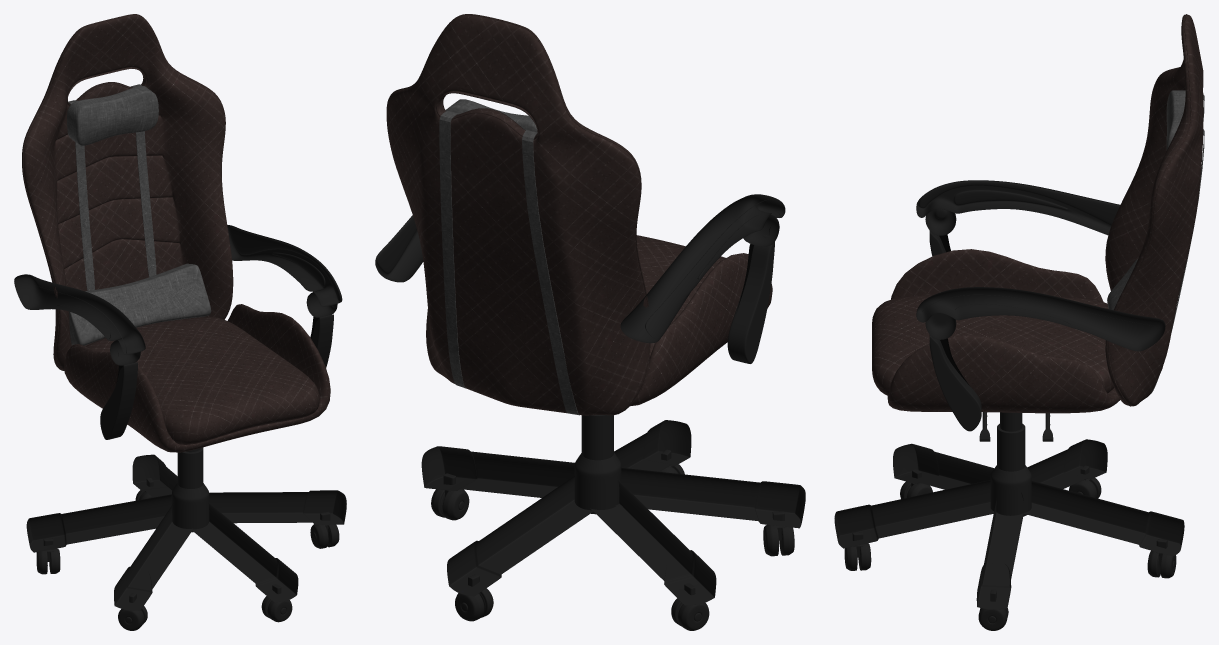
The model's file is Gaming_Chair.glb.
The picture shows the model from 3 angles, left to right: view 1: azimuth 30°, elevation 25°; view 2: azimuth 150°, elevation 25°; view 3: azimuth 270°, elevation 25°; orthographic projection. The views are drawn at different scales.
Parts seen in each view (by area): view 1: Gaming_Chair_Baked; view 2: Gaming_Chair_Baked; view 3: Gaming_Chair_Baked.
Part boxes in pixels (box(x1,y1,x2,y2)): Gaming_Chair_Baked: box(14, 14, 346, 630); Gaming_Chair_Baked: box(375, 14, 805, 630); Gaming_Chair_Baked: box(834, 14, 1204, 630).
Bounding box in the file's own units: 0.8088 × 1.4 × 0.878.
1 material, 1 textured.
